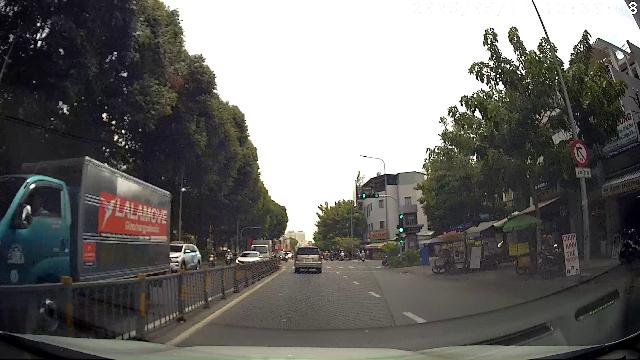103b-cam-oto-re-phai: (571, 140, 589, 166)
